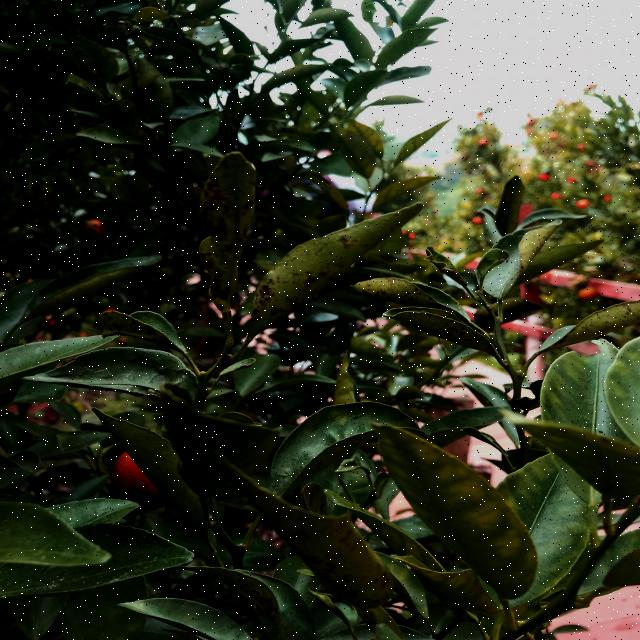melanose: (218, 455, 401, 607), (227, 203, 417, 328), (196, 154, 263, 306), (192, 560, 302, 632), (380, 303, 503, 359), (536, 301, 640, 357), (352, 268, 466, 319), (98, 305, 189, 352)
